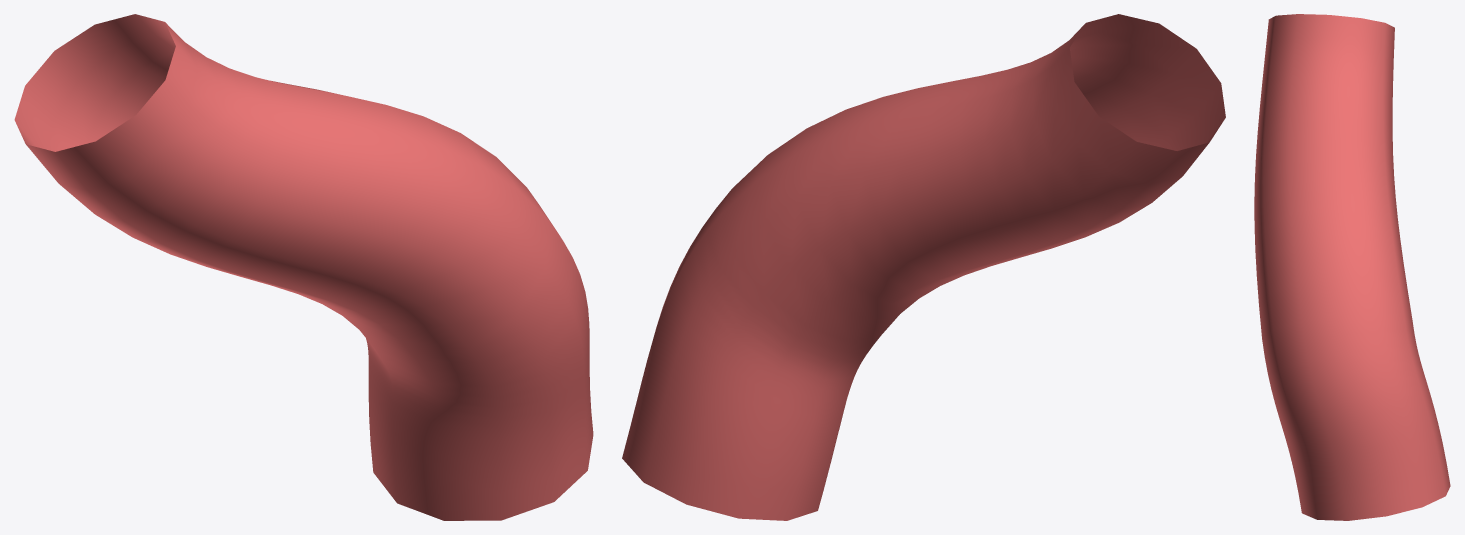
Rendered from Brachiocephalic_trunk.glb.
3 renders of one model, left to right at view 1: azimuth 30°, elevation 25°; view 2: azimuth 150°, elevation 25°; view 3: azimuth 270°, elevation 25°, orthographic. The views are drawn at different scales.
Parts seen in each view (by area): view 1: Brachiocephalic_trunk_BezierCurve.198; view 2: Brachiocephalic_trunk_BezierCurve.198; view 3: Brachiocephalic_trunk_BezierCurve.198.
Boxes of the visible parts, x1,y1,x2,y2 form: Brachiocephalic_trunk_BezierCurve.198: [14, 14, 593, 520]; Brachiocephalic_trunk_BezierCurve.198: [622, 14, 1225, 520]; Brachiocephalic_trunk_BezierCurve.198: [1254, 14, 1450, 520].
Size of the model in its own units: 0.036 by 0.0335 by 0.0155.
